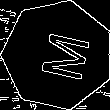M_W: (27, 27, 88, 83)
